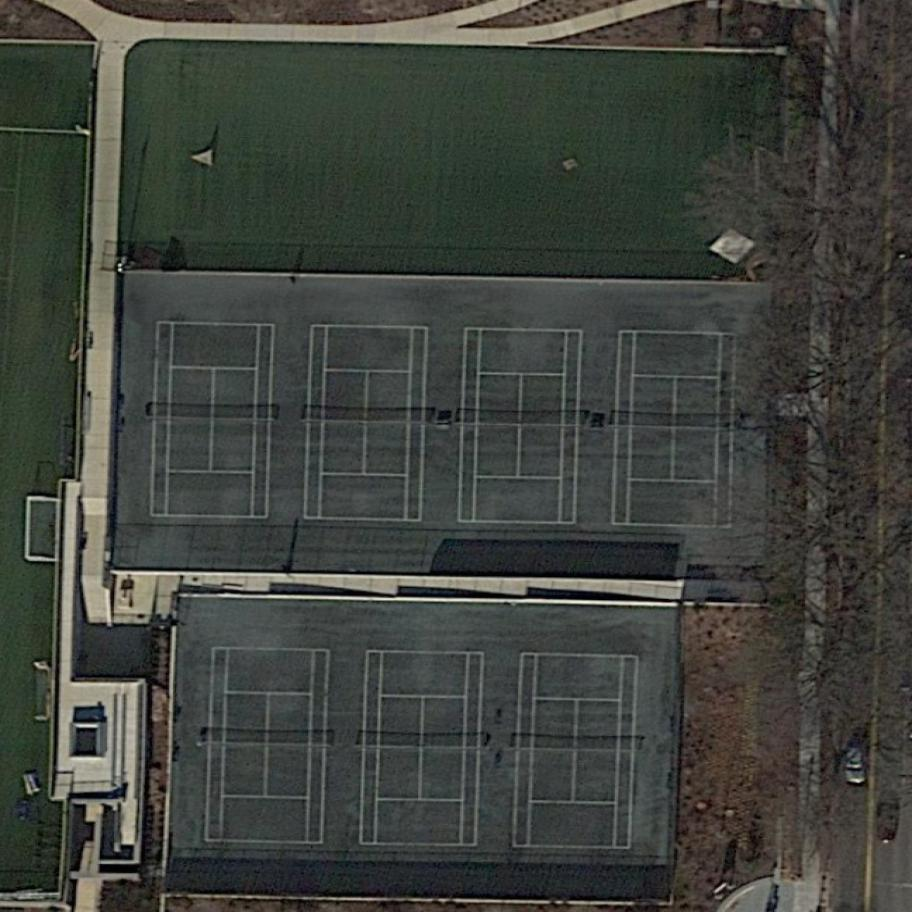small-vehicle: (873, 795, 906, 845), (842, 742, 871, 785)
